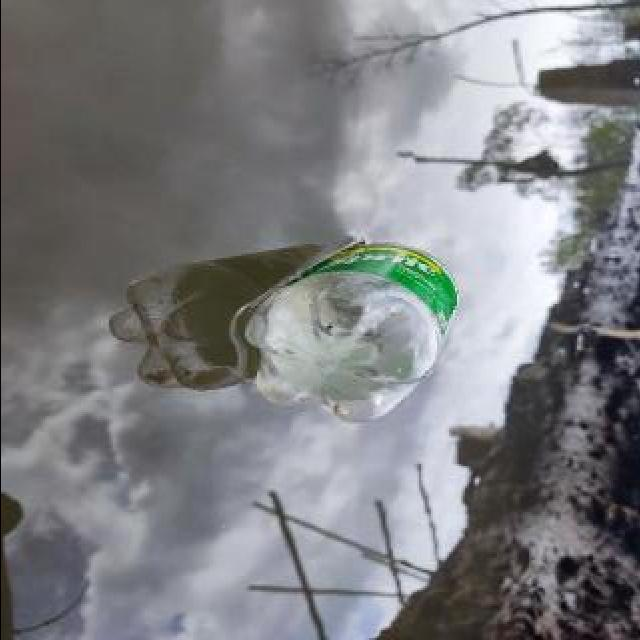Bottle: (232, 232, 470, 430)
